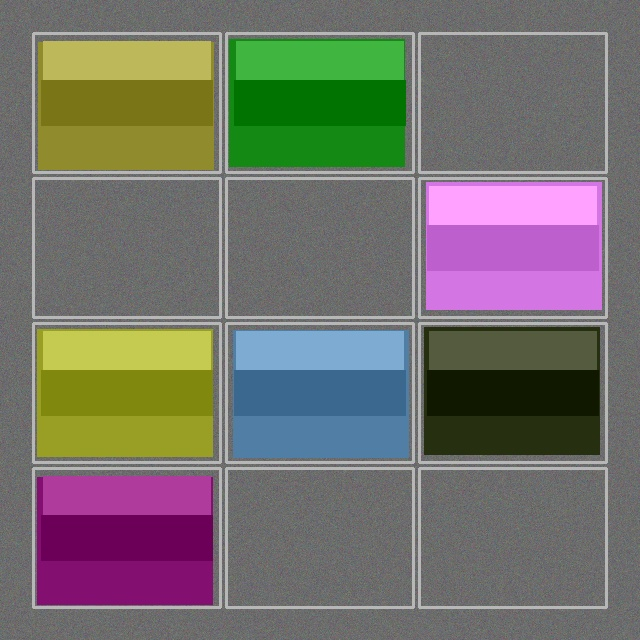space-empty: (421, 35, 604, 170), (35, 180, 218, 315), (228, 180, 411, 315), (228, 470, 411, 605), (421, 470, 604, 605)
space-occupied: (35, 35, 218, 170), (228, 35, 411, 170), (421, 180, 604, 315), (35, 325, 218, 460), (228, 325, 411, 460), (421, 325, 604, 460), (35, 470, 218, 605)
